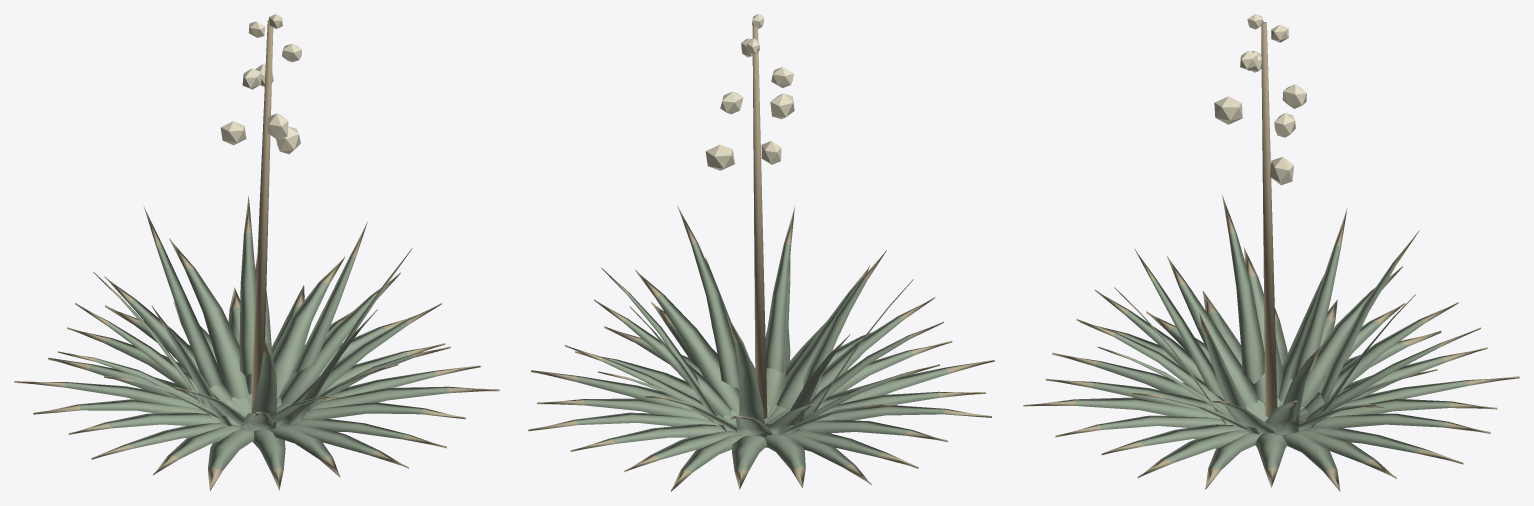
File: yucca.glb
3 renders of one model, left to right at view 1: azimuth 30°, elevation 25°; view 2: azimuth 150°, elevation 25°; view 3: azimuth 270°, elevation 25°, orthographic. The views are drawn at different scales.
Visible parts, largest first — view 1: yucca; view 2: yucca; view 3: yucca.
Part boxes in pixels (x1,y1,x2,y2): yucca: [14, 14, 499, 490]; yucca: [528, 14, 994, 491]; yucca: [1023, 14, 1519, 491].
Size of the model in its own units: 2.21 by 2.19 by 2.34.
